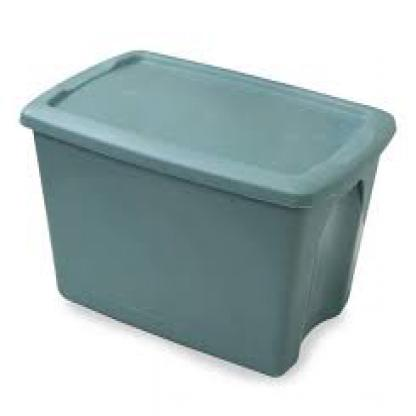plastic_box: (15, 4, 411, 386)
